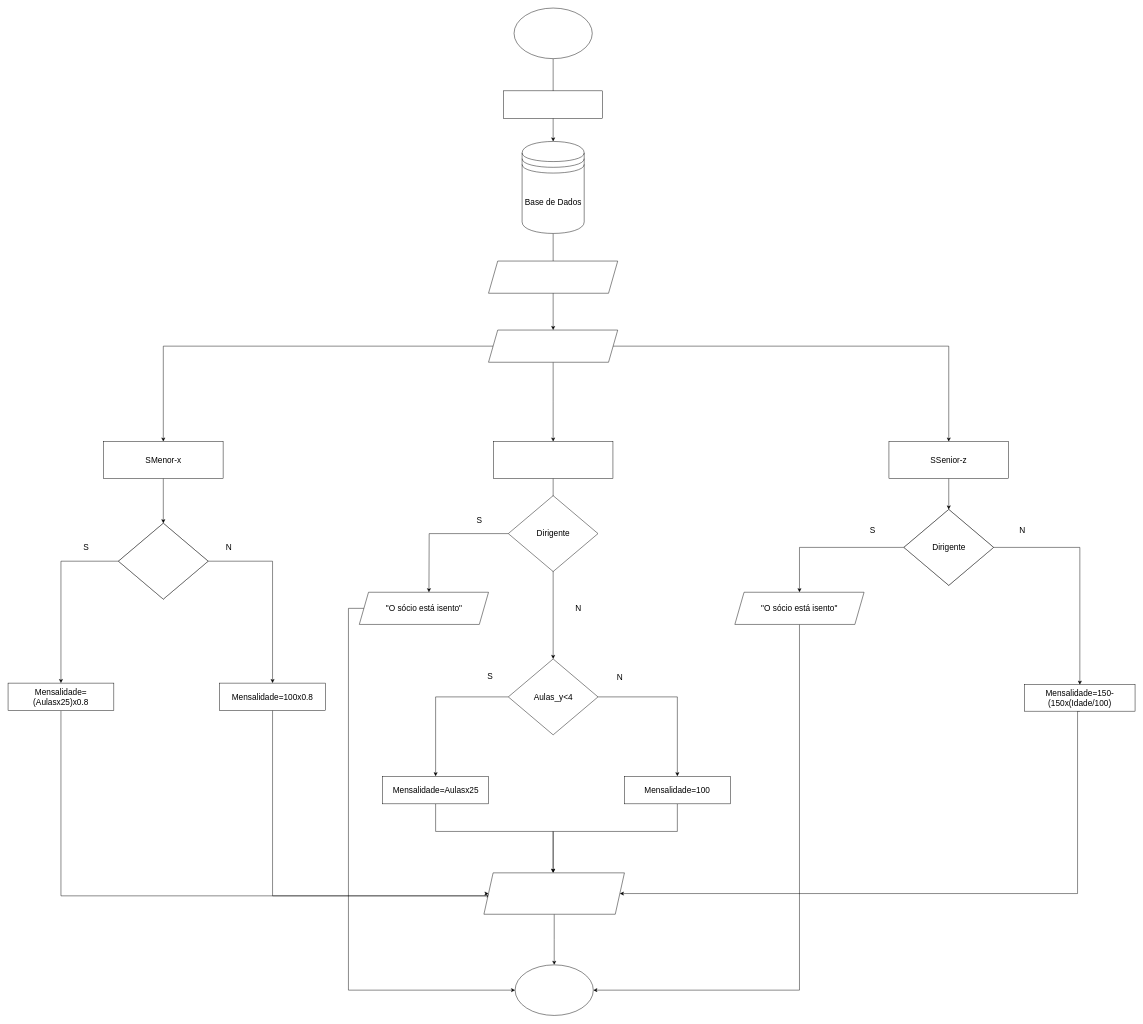
The diagram is 1143 pixels wide and 1024 high, and some of its shapes have lost their labels. The box of each missing label's shape, as (x1, y1, x2, y2) in pixels:
"Insira o ID do Sócio": (488, 261, 618, 293)
"O valor da sua mensalidade é de" + Mensalidade: (483, 872, 624, 914)
Aulas_x<4: (118, 523, 208, 599)
FIM: (515, 964, 593, 1015)
Float Mensalidade: (503, 90, 603, 118)
Início: (514, 8, 592, 59)
Ler SMenor-x,SAdulto-y, SSenior-z: (488, 330, 618, 362)
SAdulto-y: (493, 441, 613, 478)
